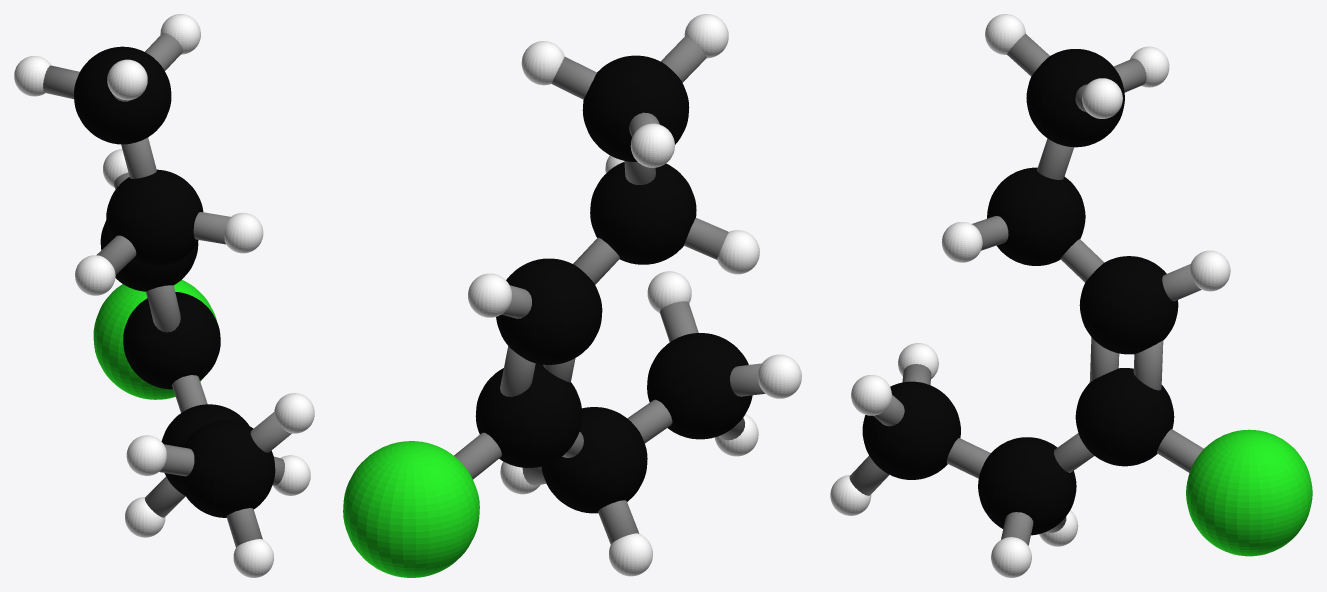
The model's file is CLROPRENO.obj.
The picture shows the model from 3 angles, left to right: view 1: azimuth 30°, elevation 25°; view 2: azimuth 150°, elevation 25°; view 3: azimuth 270°, elevation 25°; orthographic projection. The views are drawn at different scales.
Visible parts, largest first — view 1: Carbon_ball_Sphere.001, Hydrogen_ball_Sphere, Chlorine_ball_Sphere.002, Stick_Cylinder.017_Cylinder.017, Stick_Cylinder.008_Cylinder.008, Stick_Cylinder.016_Cylinder.016, Stick_Cylinder.010_Cylinder.010, Stick_Cylinder.005_Cylinder.005, Stick_Cylinder.007_Cylinder.007, Stick_Cylinder.013_Cylinder.013, Stick_Cylinder.011_Cylinder.011, Stick_Cylinder.009_Cylinder.009 (+2 smaller); view 2: Carbon_ball_Sphere.001, Chlorine_ball_Sphere.002, Hydrogen_ball_Sphere, Stick_Cylinder.004_Cylinder.004, Stick_Cylinder.003_Cylinder.003, Stick_Cylinder.001_Cylinder.001, Stick_Cylinder.012_Cylinder.012, Stick_Cylinder.009_Cylinder.009, Stick_Cylinder.013_Cylinder.013, Stick_Cylinder.015_Cylinder.015, Stick_Cylinder.006_Cylinder.006, Stick_Cylinder.011_Cylinder.011 (+3 smaller); view 3: Carbon_ball_Sphere.001, Chlorine_ball_Sphere.002, Hydrogen_ball_Sphere, Stick_Cylinder.004_Cylinder.004, Stick_Cylinder.003_Cylinder.003, Stick_Cylinder.015_Cylinder.015, Stick_Cylinder.008_Cylinder.008, Stick_Cylinder.001_Cylinder.001, Stick_Cylinder.006_Cylinder.006, Stick_Cylinder.005_Cylinder.005, Stick_Cylinder.002_Cylinder.002, Stick_Cylinder.016_Cylinder.016 (+4 smaller).
Boxes of the visible parts, left/top/right/bottom form: Carbon_ball_Sphere.001: left=74, top=46, right=275, bottom=517; Hydrogen_ball_Sphere: left=14, top=14, right=314, bottom=577; Chlorine_ball_Sphere.002: left=93, top=280, right=216, bottom=399; Stick_Cylinder.017_Cylinder.017: left=146, top=285, right=180, bottom=332; Stick_Cylinder.008_Cylinder.008: left=121, top=137, right=156, bottom=178; Stick_Cylinder.016_Cylinder.016: left=226, top=508, right=262, bottom=547; Stick_Cylinder.010_Cylinder.010: left=193, top=212, right=230, bottom=244; Stick_Cylinder.005_Cylinder.005: left=172, top=375, right=207, bottom=412; Stick_Cylinder.007_Cylinder.007: left=43, top=65, right=79, bottom=99; Stick_Cylinder.013_Cylinder.013: left=144, top=476, right=185, bottom=517; Stick_Cylinder.011_Cylinder.011: left=250, top=412, right=291, bottom=452; Stick_Cylinder.009_Cylinder.009: left=96, top=235, right=136, bottom=274; Carbon_ball_Sphere.001: left=475, top=55, right=752, bottom=513; Chlorine_ball_Sphere.002: left=343, top=441, right=479, bottom=577; Hydrogen_ball_Sphere: left=468, top=14, right=801, bottom=576; Stick_Cylinder.004_Cylinder.004: left=454, top=432, right=501, bottom=479; Stick_Cylinder.003_Cylinder.003: left=500, top=346, right=535, bottom=396; Stick_Cylinder.001_Cylinder.001: left=573, top=237, right=619, bottom=284; Stick_Cylinder.012_Cylinder.012: left=551, top=57, right=596, bottom=99; Stick_Cylinder.009_Cylinder.009: left=684, top=218, right=728, bottom=259; Stick_Cylinder.013_Cylinder.013: left=598, top=500, right=639, bottom=544; Stick_Cylinder.015_Cylinder.015: left=627, top=399, right=672, bottom=443; Stick_Cylinder.006_Cylinder.006: left=661, top=36, right=706, bottom=82; Stick_Cylinder.011_Cylinder.011: left=659, top=301, right=698, bottom=341; Carbon_ball_Sphere.001: left=862, top=49, right=1178, bottom=535; Chlorine_ball_Sphere.002: left=1186, top=429, right=1312, bottom=556; Hydrogen_ball_Sphere: left=830, top=14, right=1230, bottom=577; Stick_Cylinder.004_Cylinder.004: left=1157, top=429, right=1203, bottom=472; Stick_Cylinder.003_Cylinder.003: left=1133, top=340, right=1163, bottom=390; Stick_Cylinder.015_Cylinder.015: left=946, top=438, right=990, bottom=478; Stick_Cylinder.008_Cylinder.008: left=1037, top=138, right=1073, bottom=179; Stick_Cylinder.001_Cylinder.001: left=1060, top=239, right=1104, bottom=282; Stick_Cylinder.006_Cylinder.006: left=1007, top=34, right=1049, bottom=76; Stick_Cylinder.005_Cylinder.005: left=1054, top=433, right=1094, bottom=472; Stick_Cylinder.002_Cylinder.002: left=1162, top=264, right=1201, bottom=301; Stick_Cylinder.016_Cylinder.016: left=849, top=455, right=889, bottom=495.
Bounding box in the file's own units: 4.13 × 7.88 × 6.79.
